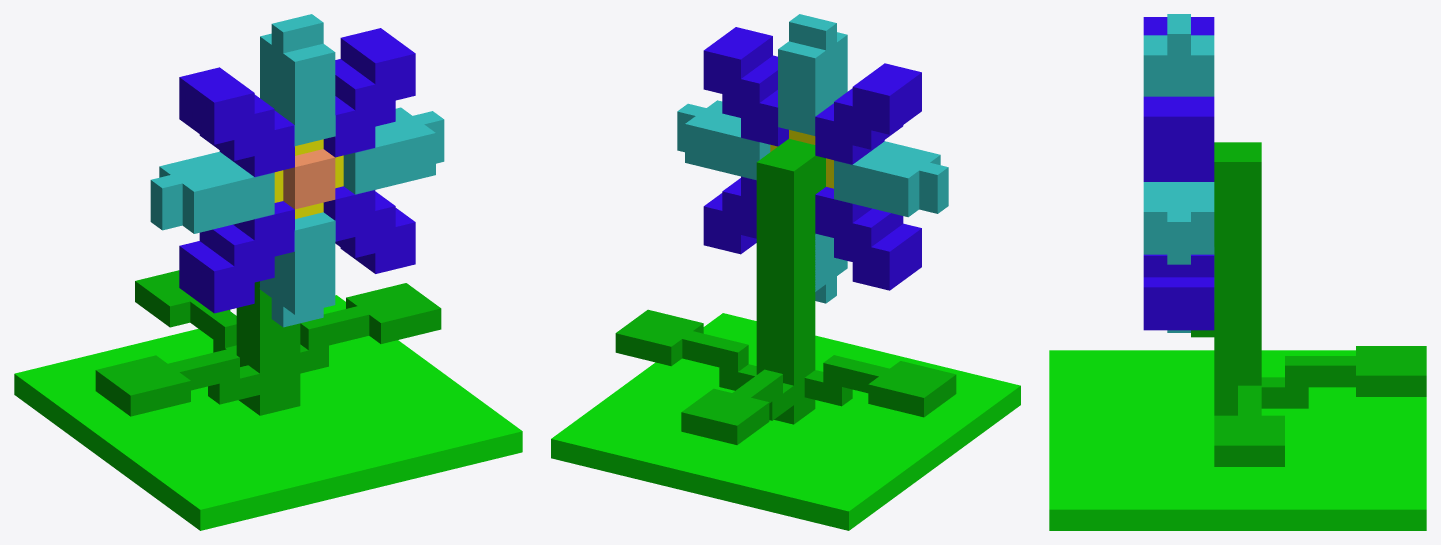
The model's file is decoration_06.fbx.
3 renders of one model, left to right at view 1: azimuth 30°, elevation 25°; view 2: azimuth 150°, elevation 25°; view 3: azimuth 270°, elevation 25°, orthographic. The views are drawn at different scales.
Parts seen in each view (by area): view 1: decoration_06; view 2: decoration_06; view 3: decoration_06.
Boxes of the visible parts, x1,y1,x2,y2 form: decoration_06: [14, 14, 522, 530]; decoration_06: [551, 14, 1020, 530]; decoration_06: [1049, 14, 1426, 530].
Size of the model in its own units: 160 by 200 by 160.
1 material, 1 textured.
